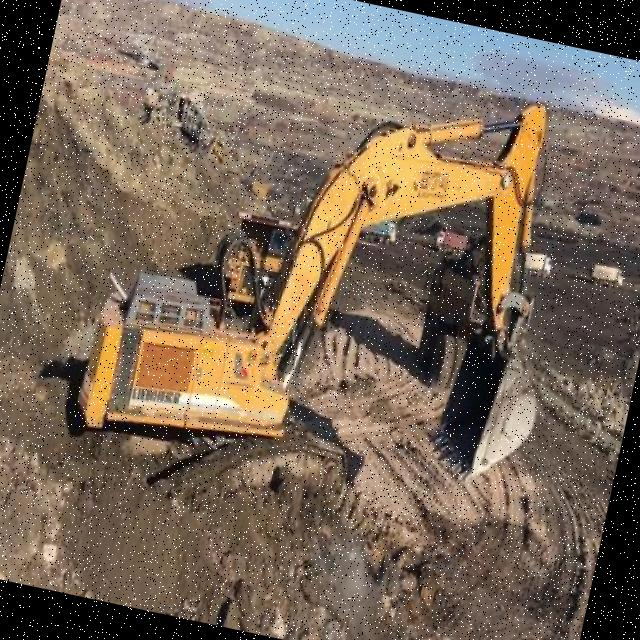Dump Truck: (429, 221, 469, 256), (586, 258, 626, 292), (364, 214, 398, 244), (524, 252, 554, 280)
Excavator: (37, 14, 604, 582)
